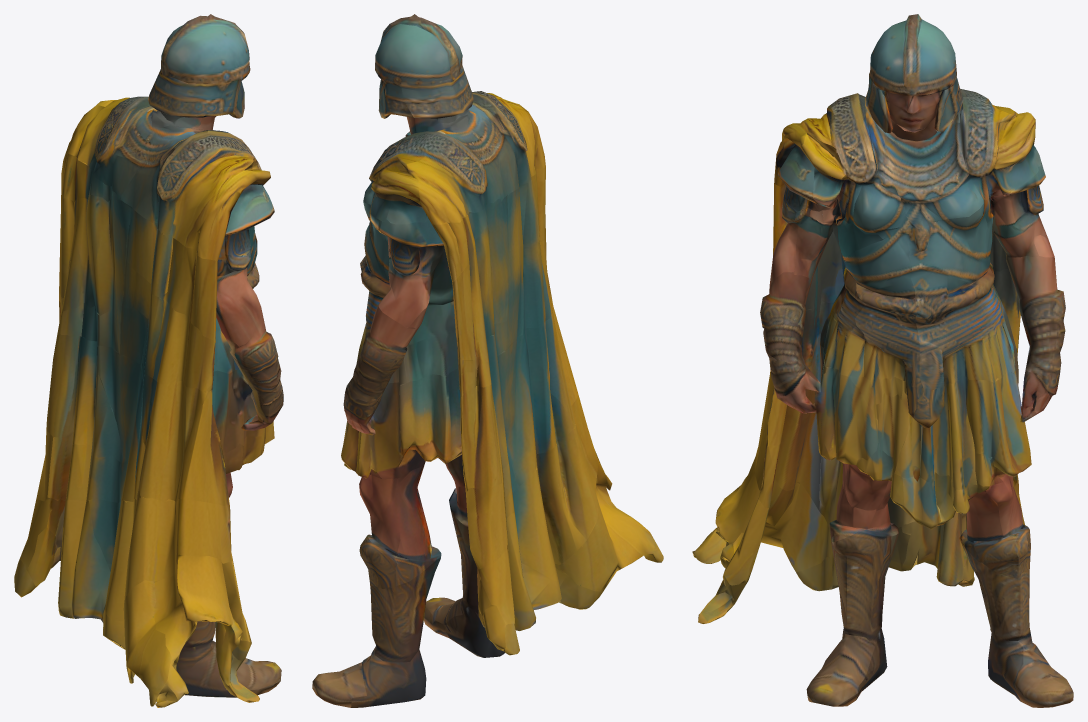
3 views of the same model, side by side, from view 1: azimuth 30°, elevation 25°; view 2: azimuth 150°, elevation 25°; view 3: azimuth 270°, elevation 25° (orthographic). The views are drawn at different scales.
Visible parts, largest first — view 1: body; view 2: body; view 3: body.
Boxes of the visible parts, x1,y1,x2,y2 form: body: (14,14,283,707); body: (312,14,663,707); body: (692,14,1073,707).
Size of the model in its own units: 0.3294 by 0.9998 by 0.5093.
1 material, 1 textured.
